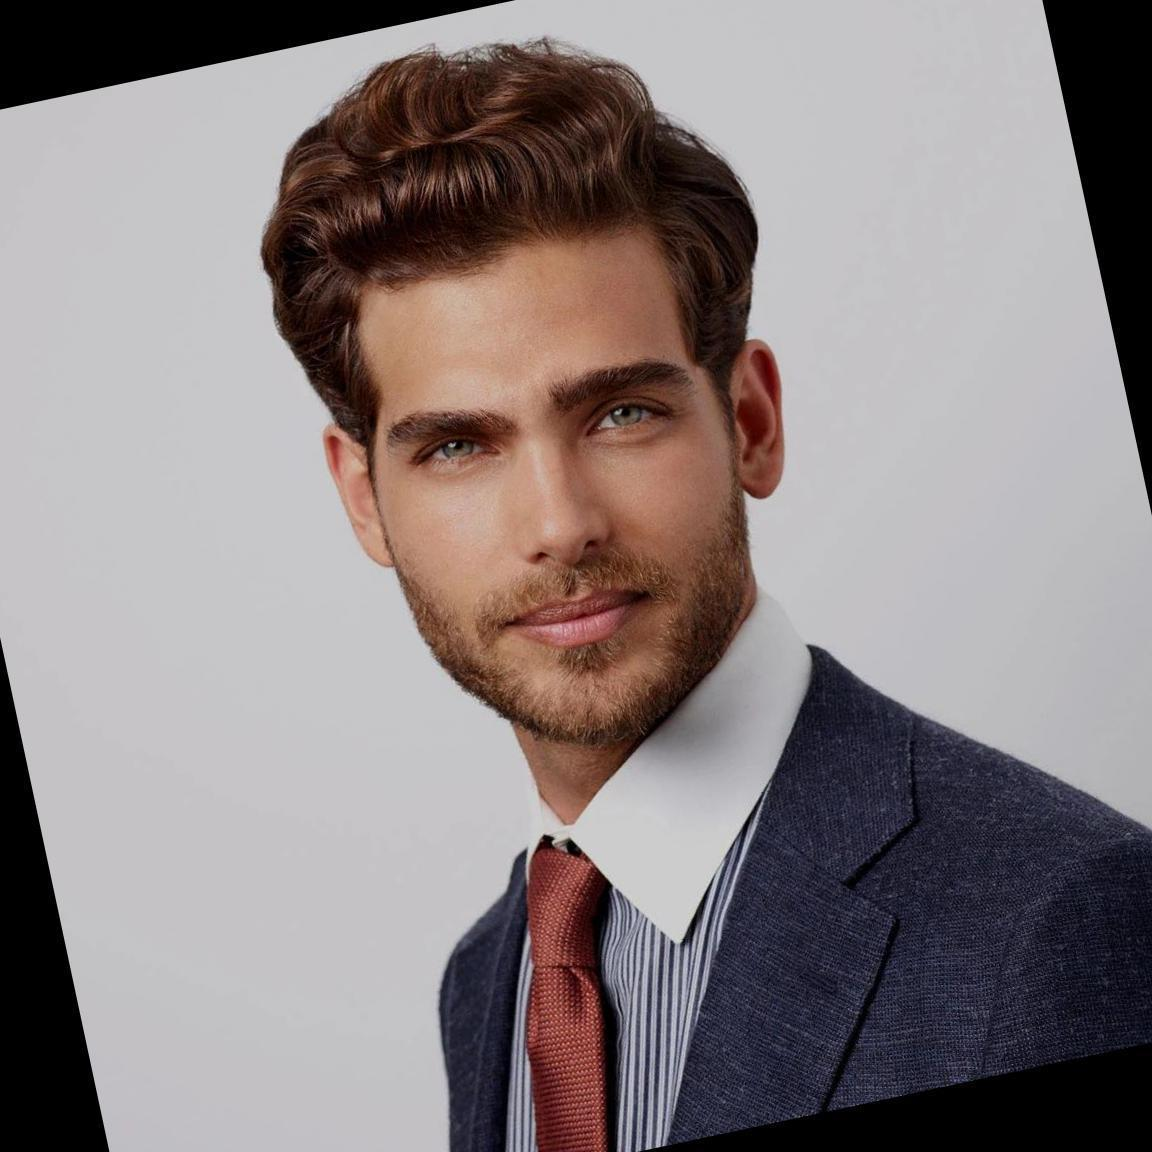Sober: (371, 261, 734, 719)
